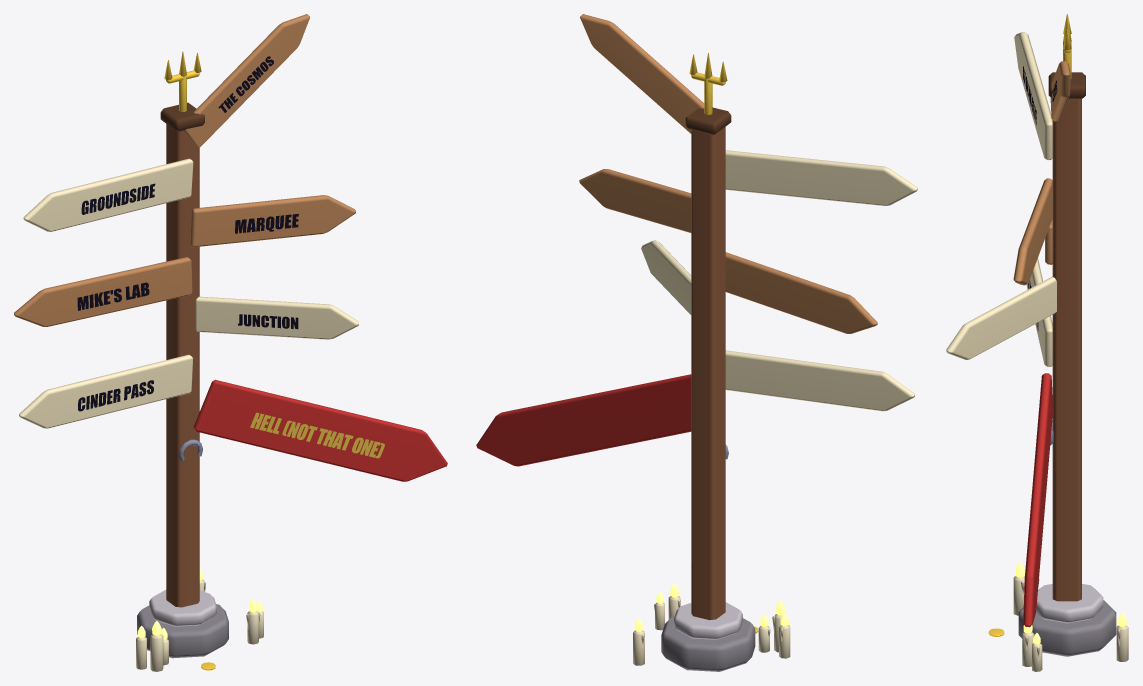
File: signpost_crossroads.glb
3 views of the same model, side by side, from view 1: azimuth 30°, elevation 25°; view 2: azimuth 150°, elevation 25°; view 3: azimuth 270°, elevation 25° (orthographic). The views are drawn at different scales.
Visible parts, largest first — view 1: Arms, Post, Foot; view 2: Arms, Post, Foot; view 3: Post, Arms, Foot.
Boxes of the visible parts, <box> form: Arms: <box>14,14,447,481</box>; Post: <box>137,51,228,658</box>; Foot: <box>136,568,263,671</box>; Arms: <box>476,14,917,466</box>; Post: <box>661,53,755,671</box>; Foot: <box>633,584,790,665</box>; Post: <box>1018,14,1116,656</box>; Arms: <box>946,32,1070,627</box>; Foot: <box>988,562,1128,671</box>.
Bounding box in the file's own units: 2.65 × 3.53 × 0.9288.
